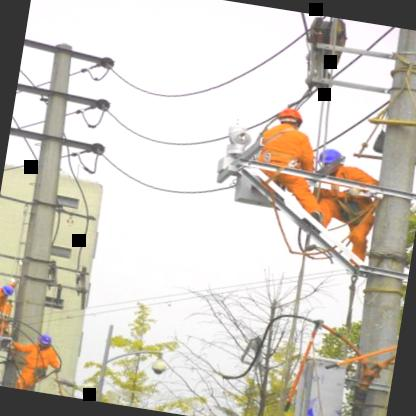helmet: (315, 143, 348, 176), (272, 105, 306, 135), (34, 330, 58, 352), (0, 282, 18, 299)
